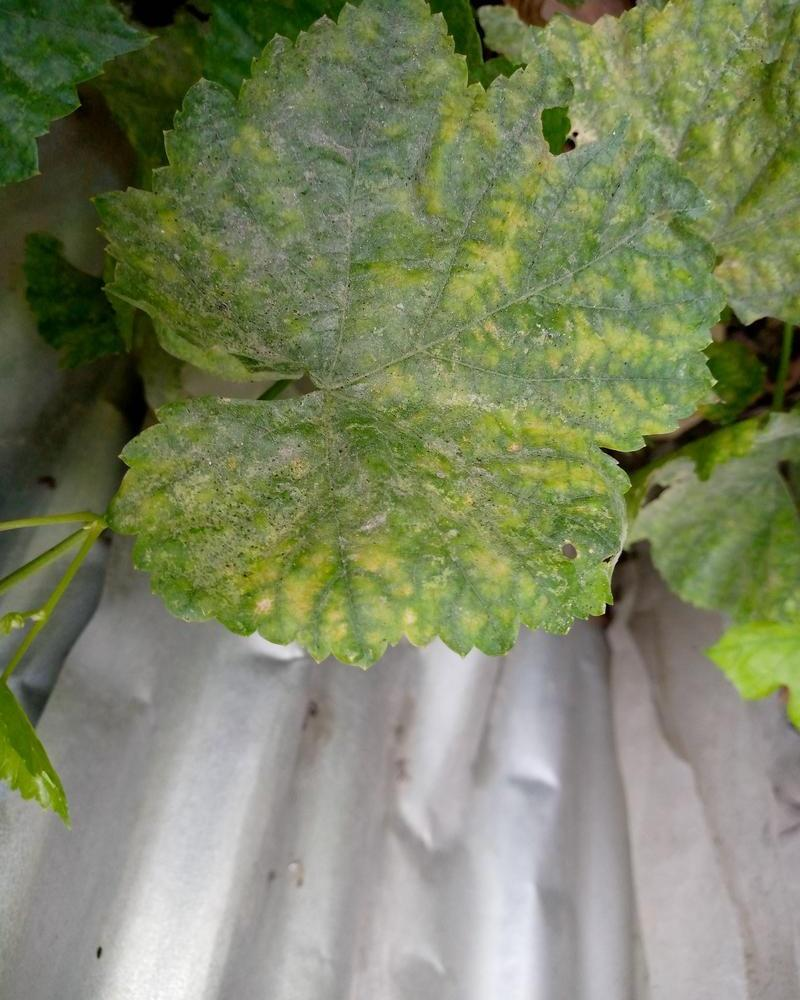Powdery-Mildew: (449, 250, 700, 601), (130, 407, 437, 663), (564, 7, 777, 246), (159, 93, 337, 275), (428, 183, 547, 329), (343, 338, 406, 401)
